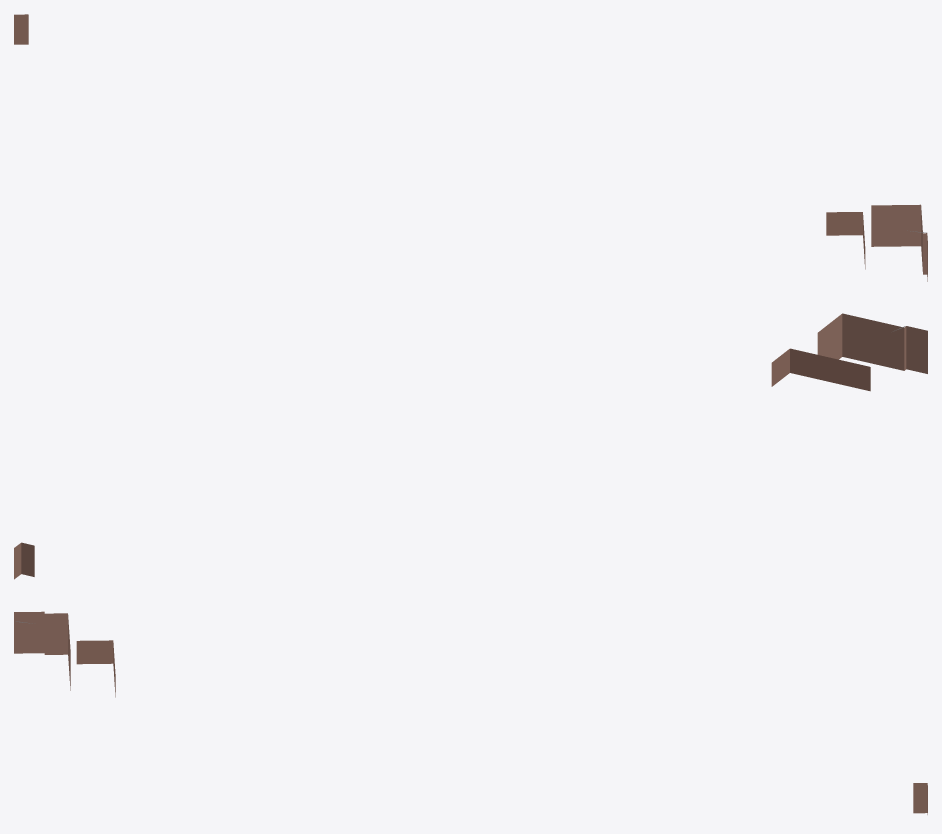
The model's file is c_1635_17830_buildings_residential.glb.
3 views of the same model, one above another, from view 1: azimuth 90°, elevation 25°; view 2: azimuth 150°, elevation 25°; view 3: azimuth 270°, elevation 25° (orthographic). The views are drawn at different scales.
Visible parts, largest first — view 1: geometry_0; view 2: geometry_0; view 3: geometry_0.
Boxes of the visible parts, bbox=[...] form: geometry_0: bbox=[14, 14, 927, 281]; geometry_0: bbox=[14, 313, 927, 579]; geometry_0: bbox=[14, 611, 927, 814].
Size of the model in its own units: 116 by 17.89 by 220.
